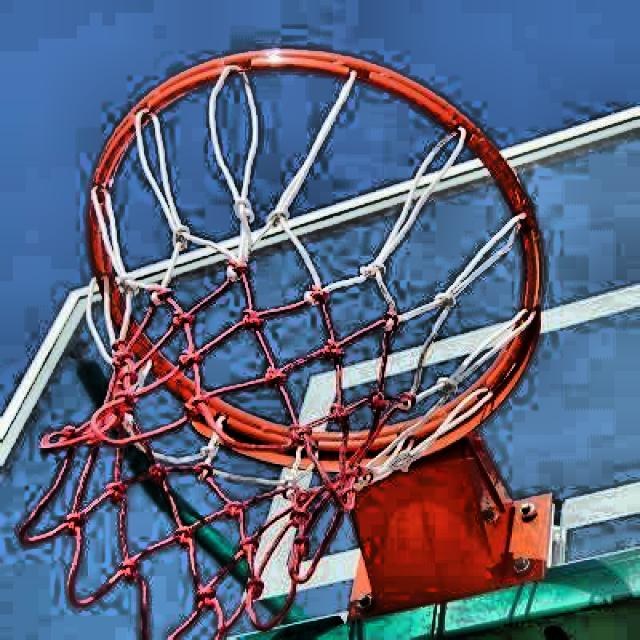rim: (24, 46, 544, 640)
